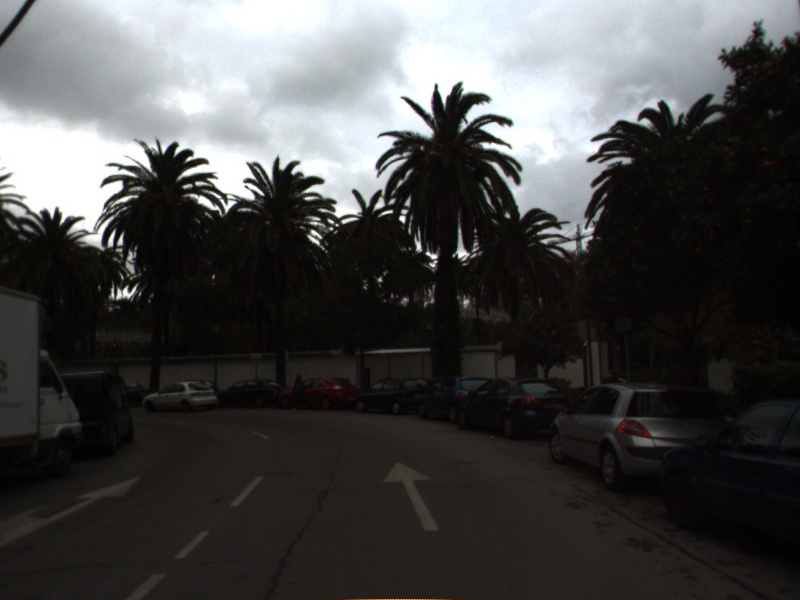STRAIGHT: (381, 459, 440, 532)
STRAIGHT_LEFT: (1, 474, 143, 547)
